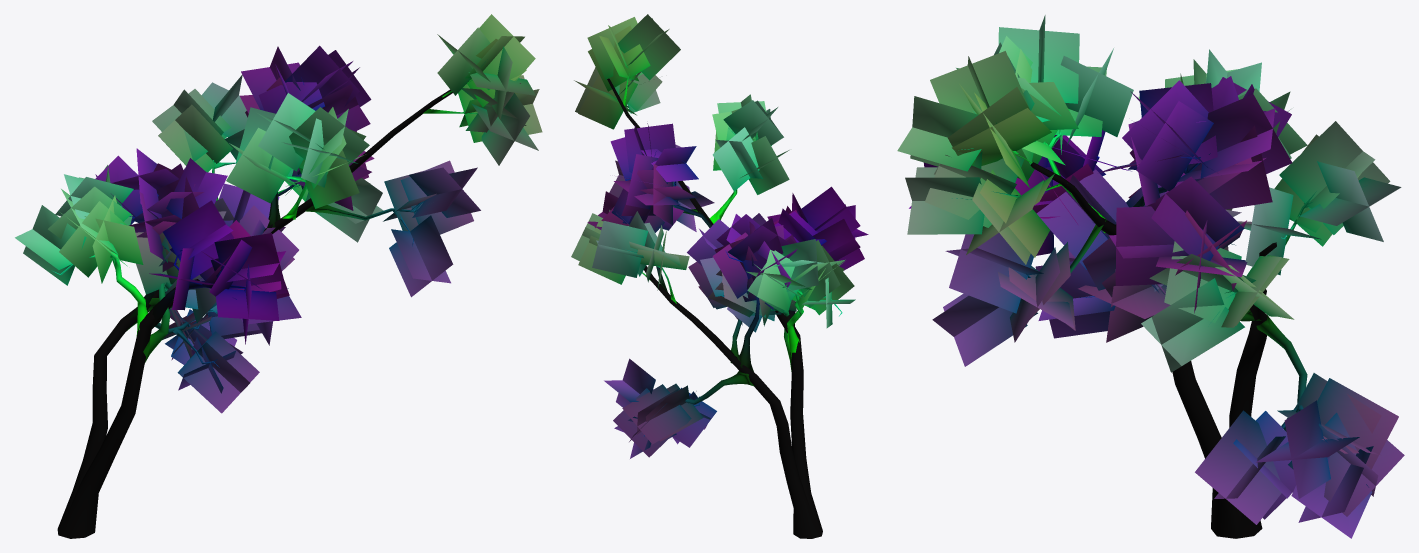
Rendered from M_P5_Tree_15.fbx.
3 renders of one model, left to right at view 1: azimuth 30°, elevation 25°; view 2: azimuth 150°, elevation 25°; view 3: azimuth 270°, elevation 25°, orthographic. The views are drawn at different scales.
Visible parts, largest first — view 1: Tree_15; view 2: Tree_15; view 3: Tree_15.
Part boxes in pixels (left/top/right/bottom): Tree_15: left=15, top=14, right=542, bottom=538; Tree_15: left=571, top=14, right=868, bottom=538; Tree_15: left=897, top=15, right=1404, bottom=538.
Size of the model in its own units: 664 by 745 by 512.
